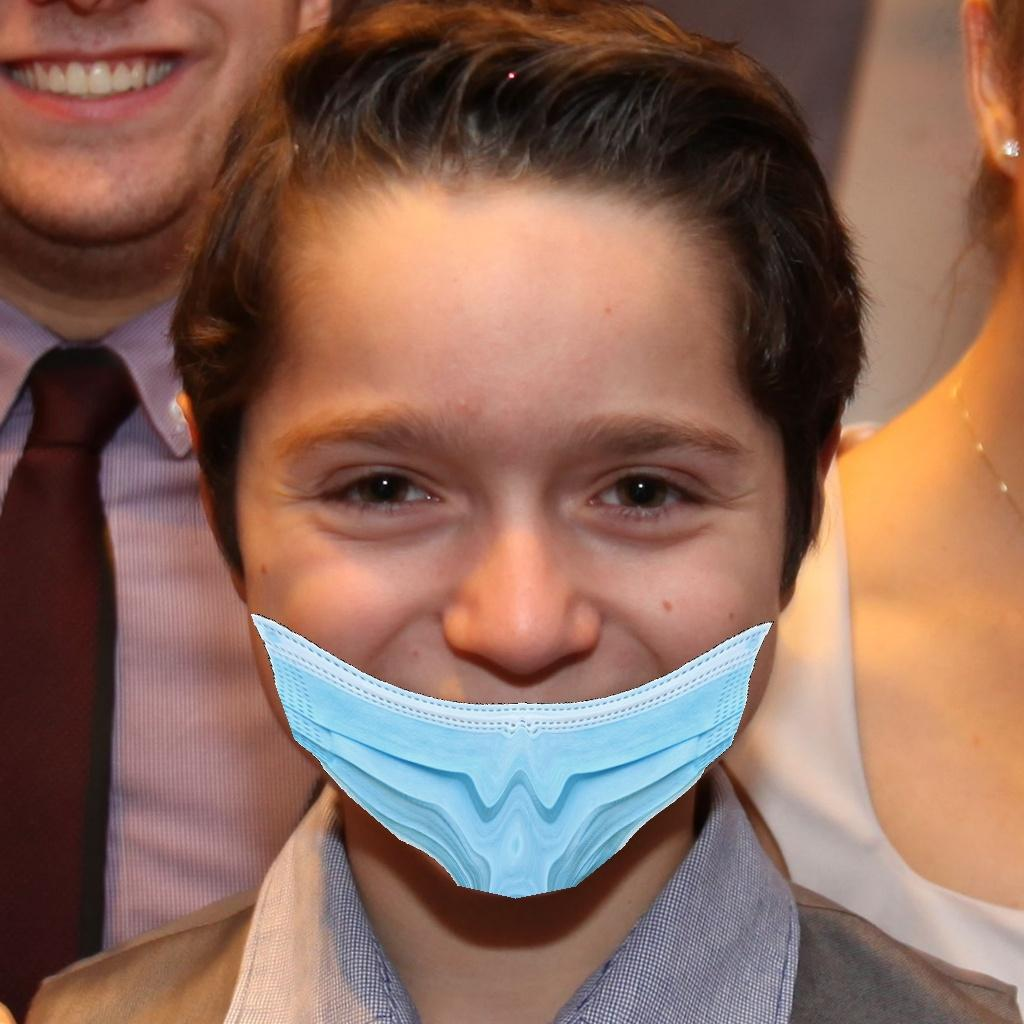Máscara Incorreta: (238, 292, 803, 876)
